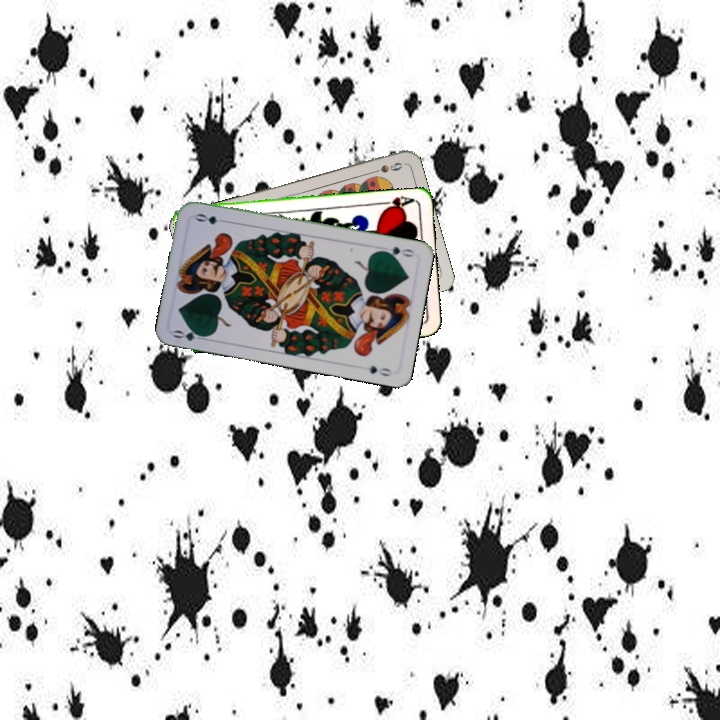GO: (169, 324, 211, 344), (376, 242, 417, 260)
HA: (375, 192, 416, 213)
S9: (365, 158, 405, 177)
